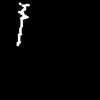double_crochet: (17, 3, 29, 45)
